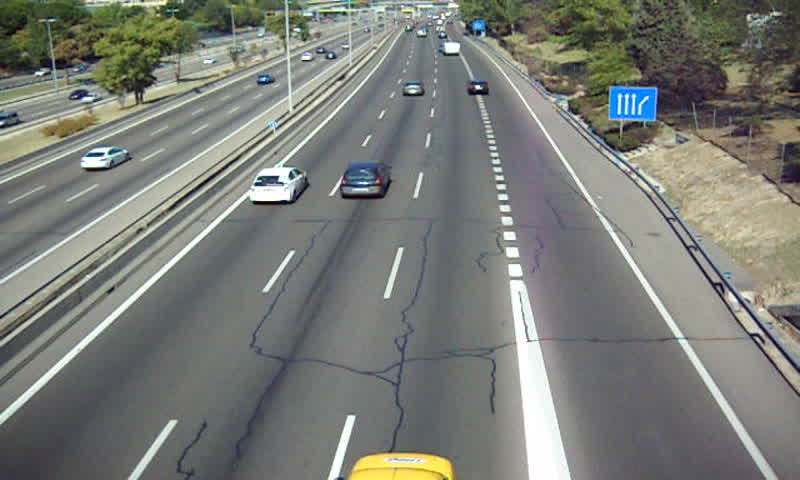car: (251, 167, 308, 202), (341, 163, 391, 199), (402, 80, 424, 96), (466, 81, 489, 95)
van: (443, 42, 462, 54)
